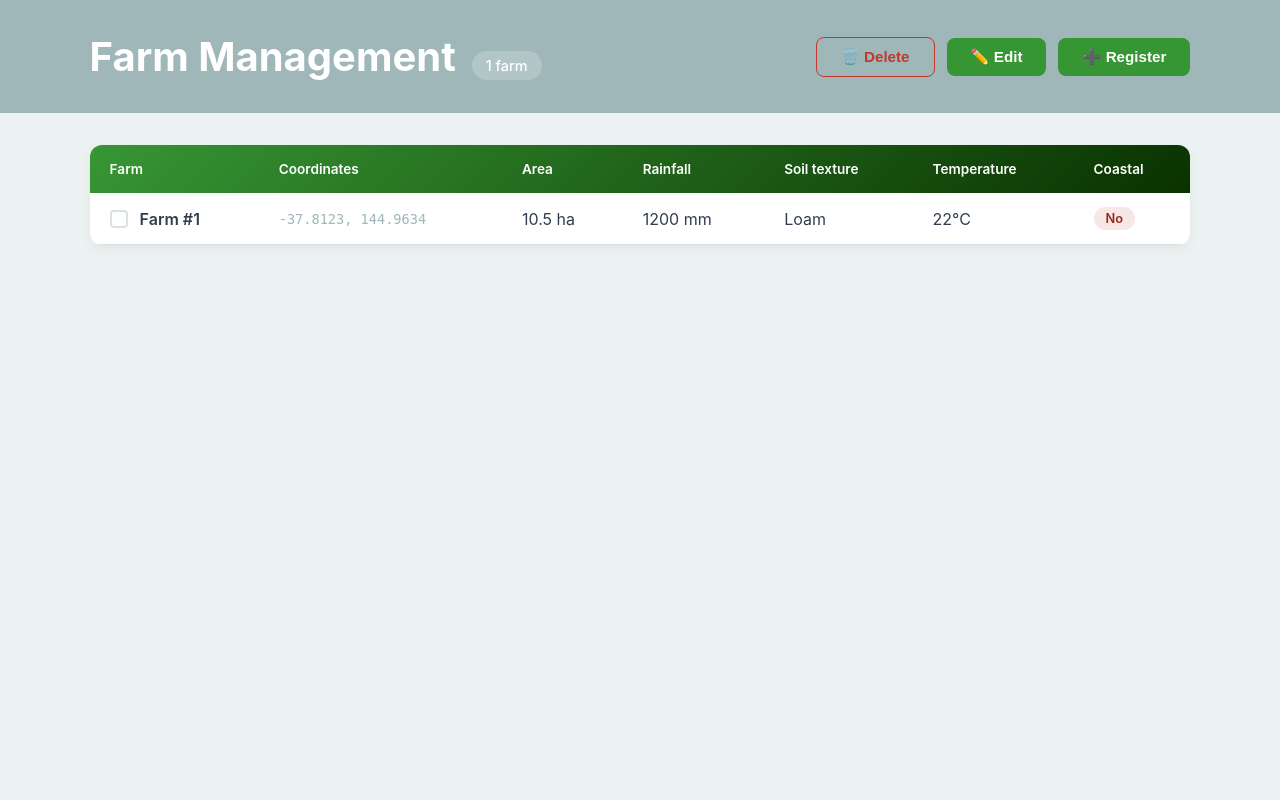
Test: FarmsManagmentPage › closes the edit modal when Cancel is clicked
The image size is (1280, 800).
Click the checkbox at x=119, y=218, box [110,210,128,228]
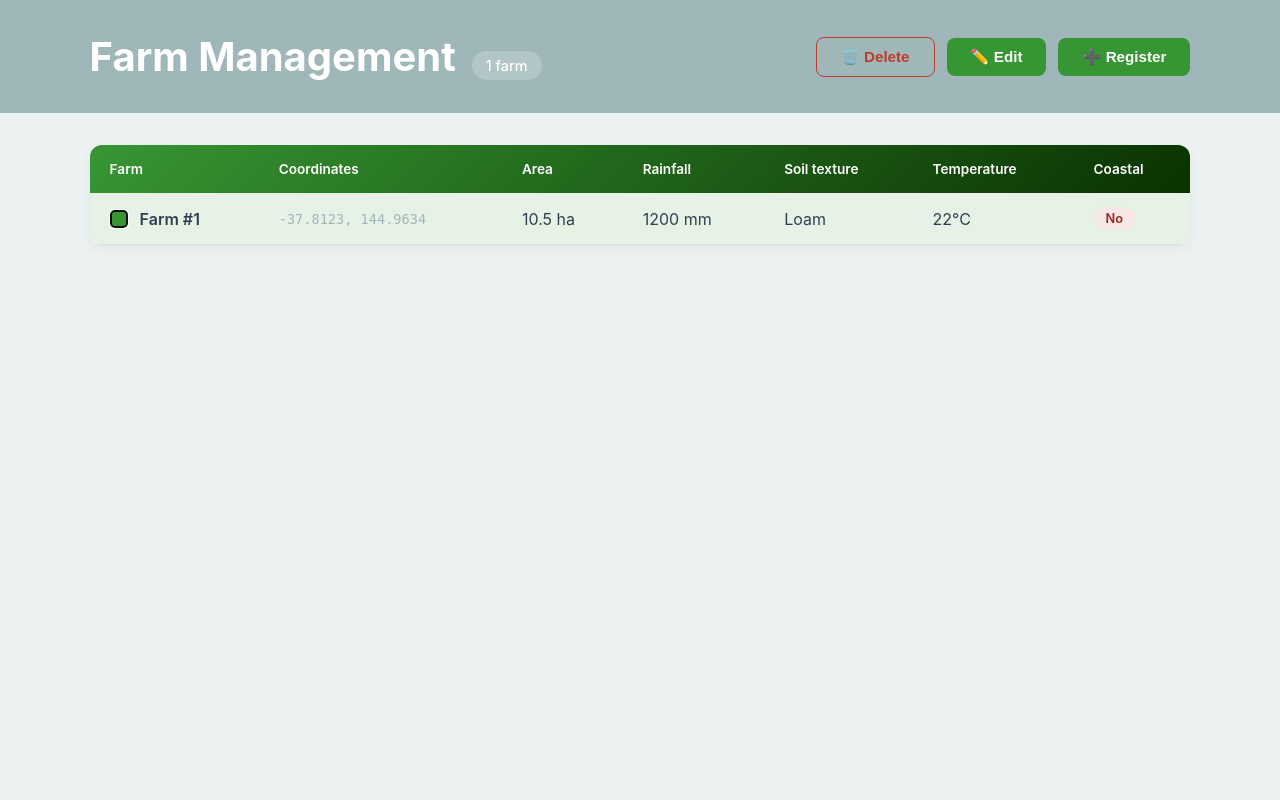
Click the button "✏️ Edit" at x=997, y=56, box [947,38,1046,76]
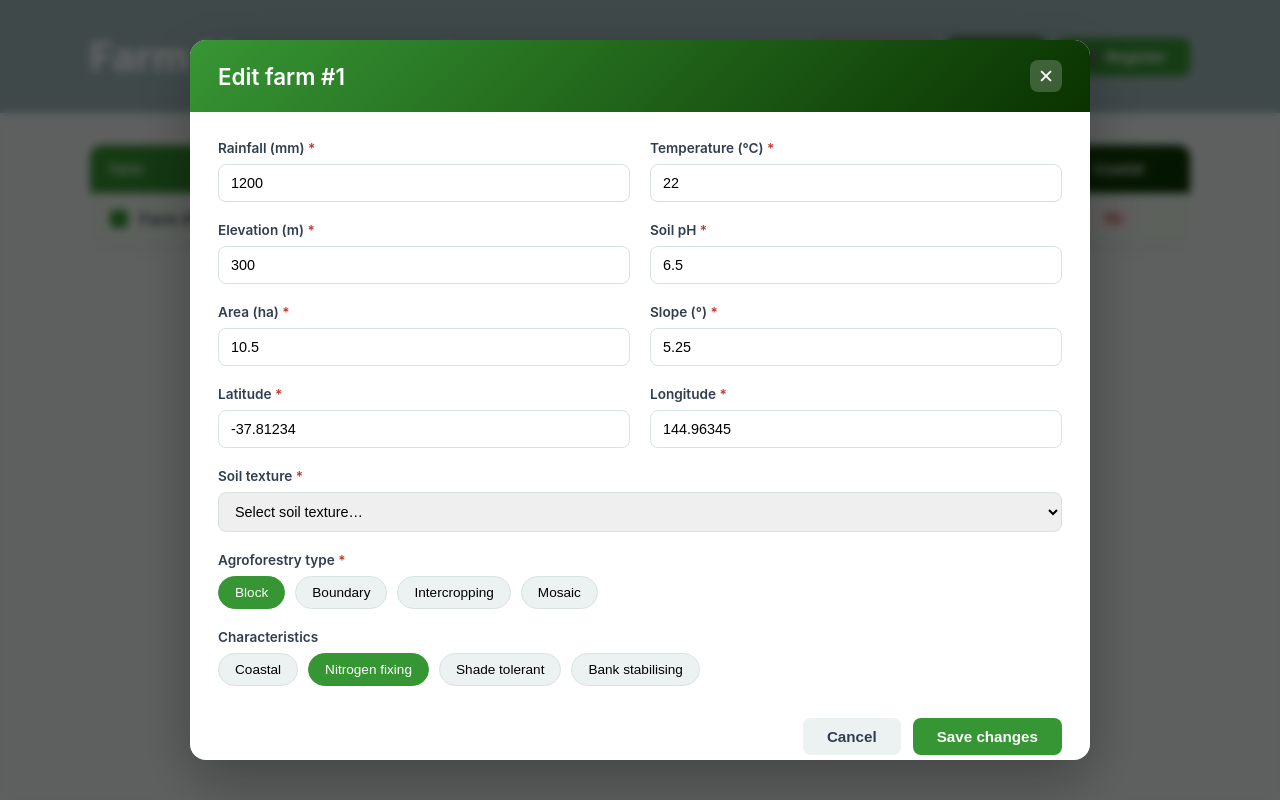
Expected: the heading "Edit farm #1" is shown, [218,62,345,90]
Click the button "Cancel" at x=852, y=736, box [803,718,901,755]
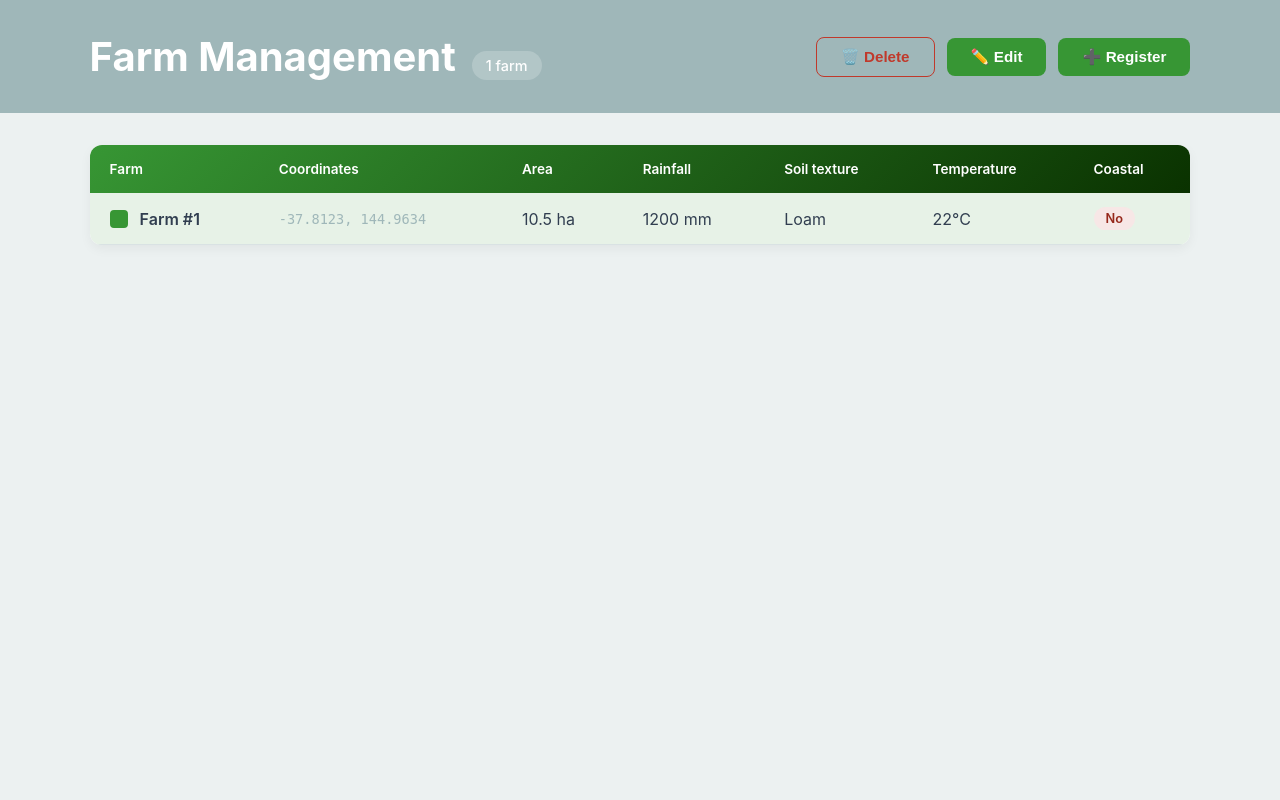
Expected: the heading "Edit farm #1" is gone
